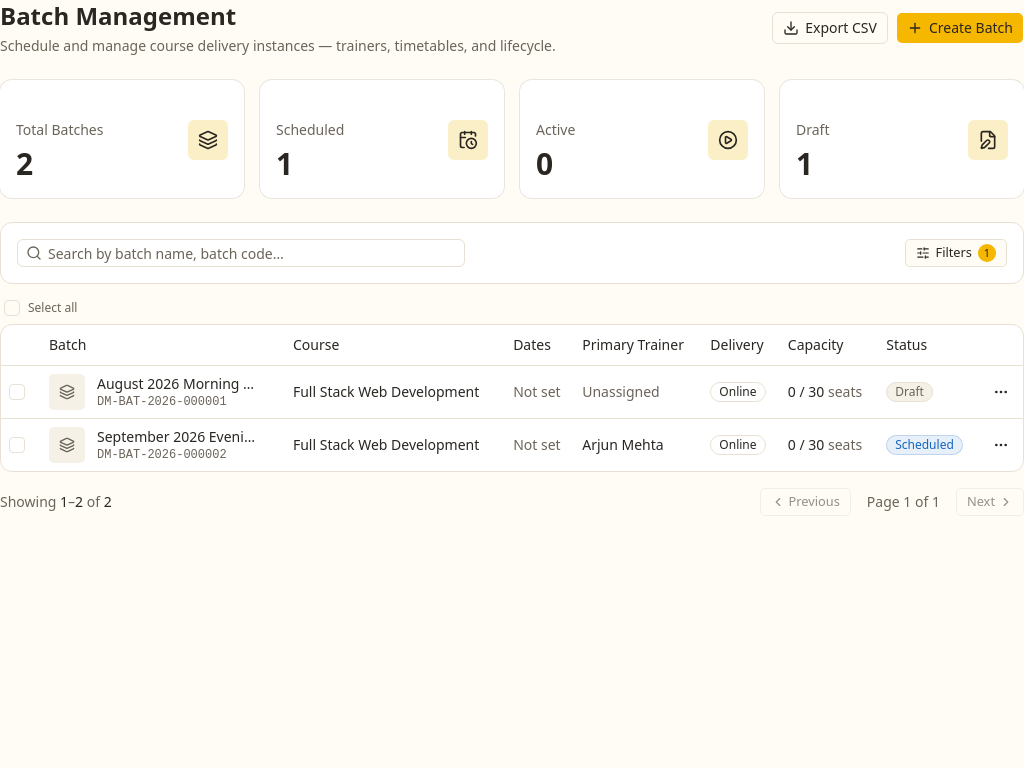
Test: BatchesPage › selects rows and runs a bulk cancel action after confirmation
The image size is (1024, 768).
Expected: the text "September 2026 Evening Batch" is shown, [97, 426, 257, 446]
Click the checkbox named "Select all".
click(12, 308)  # box [4, 300, 20, 316]
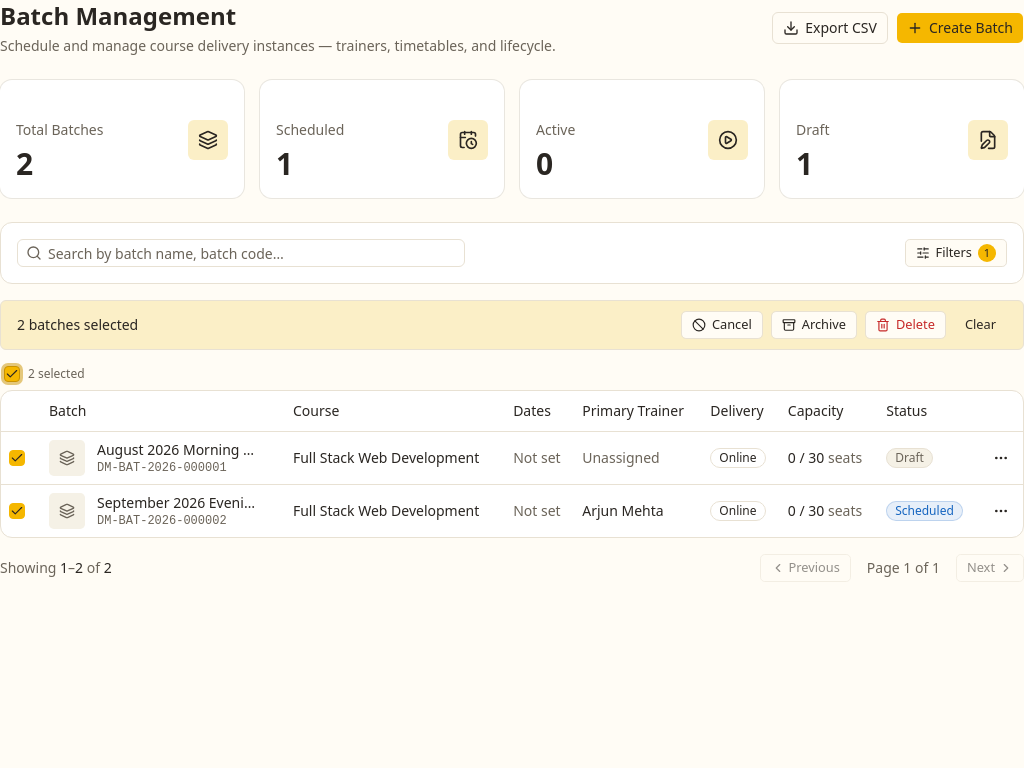
Now the text "2 batches selected" is shown, box [17, 315, 138, 335]
Click the button "Cancel".
click(722, 325)  # box [681, 311, 763, 339]
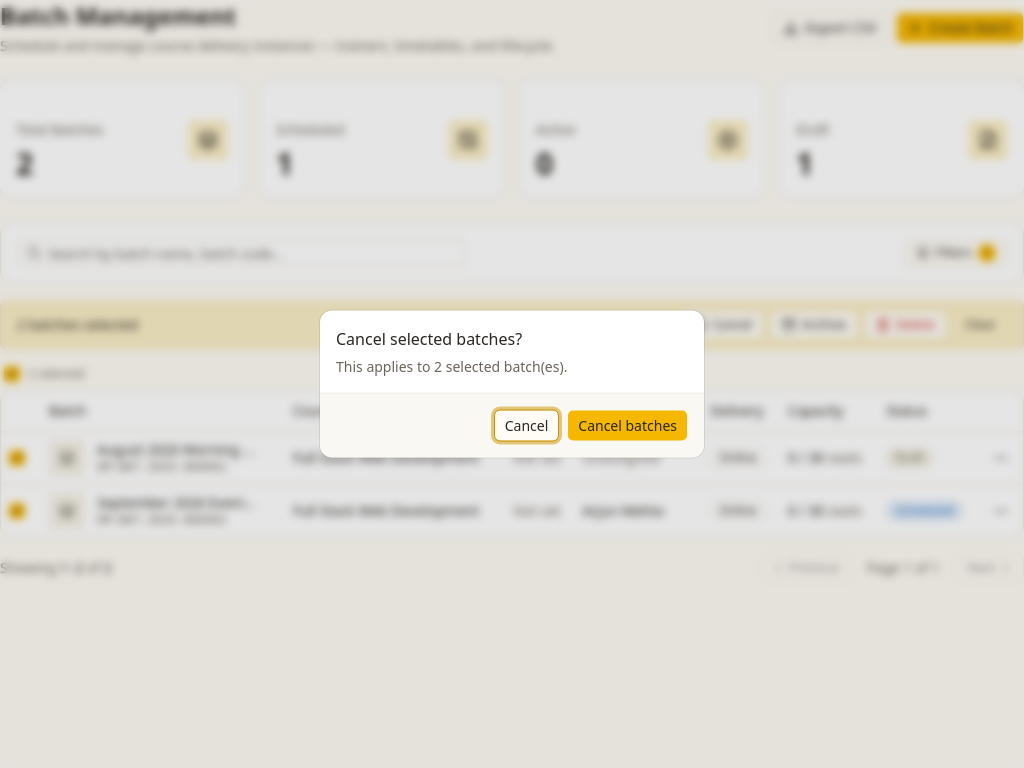
Click the button "Cancel batches".
click(628, 426)  # box [567, 410, 688, 442]
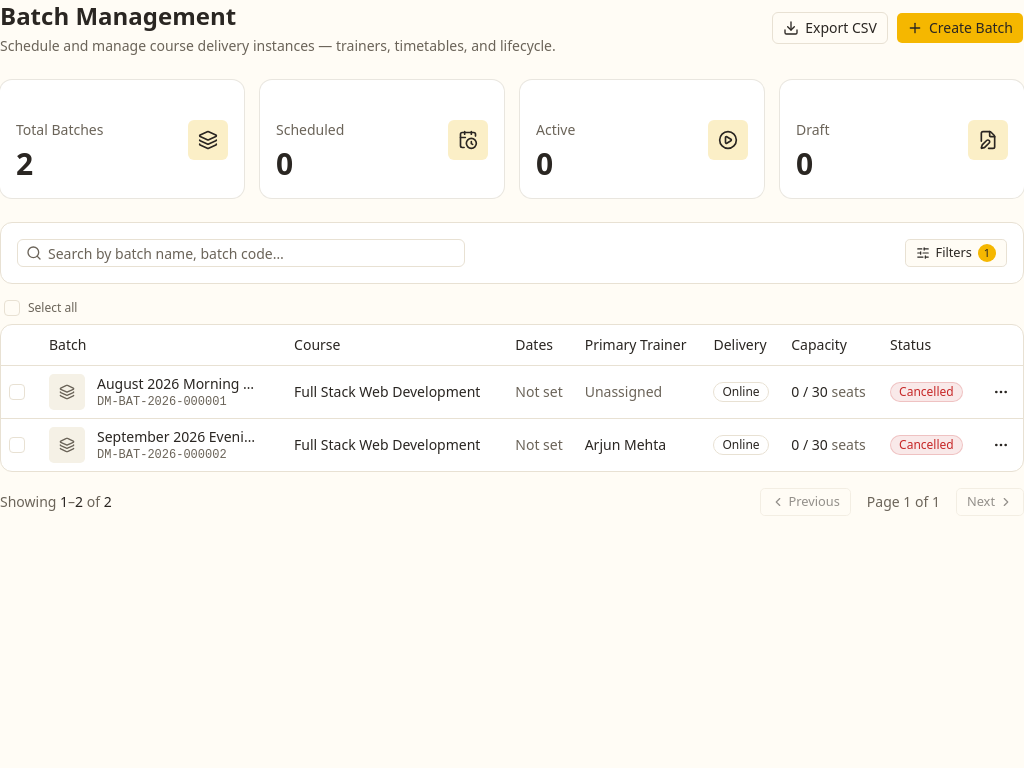
Now the text "Cancelled" in the row of "Unassigned" is shown, box [899, 383, 954, 400]
